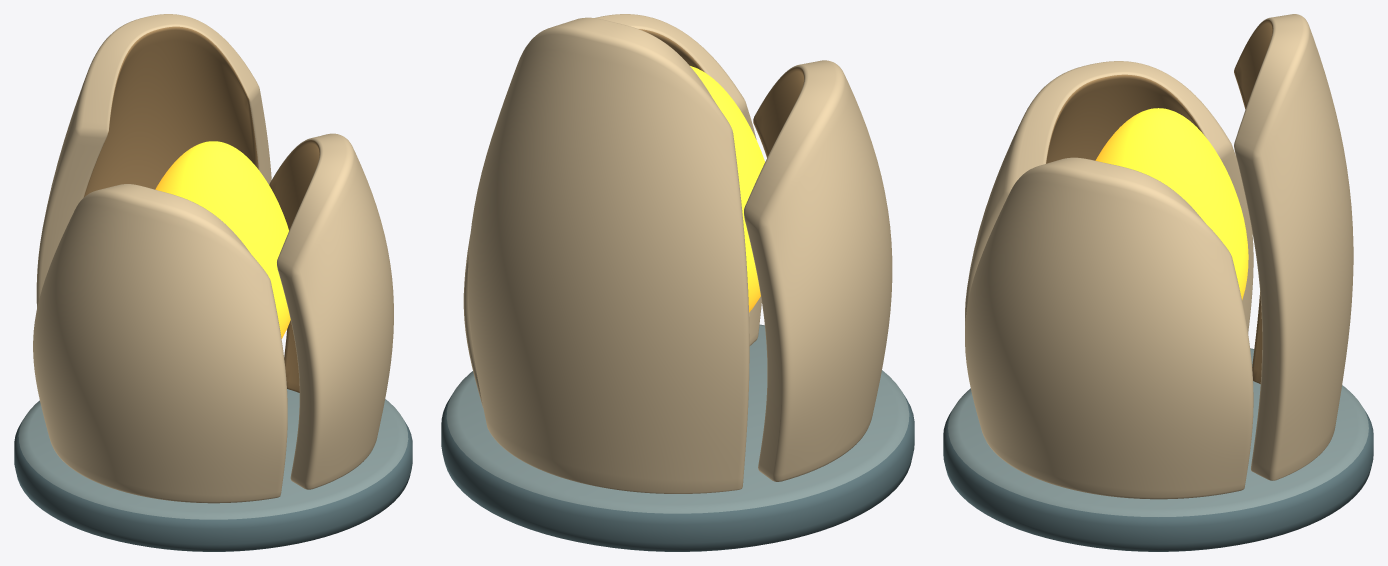
Rendered from building_sunlight_center_v01.glb.
The picture shows the model from 3 angles, left to right: view 1: azimuth 30°, elevation 25°; view 2: azimuth 150°, elevation 25°; view 3: azimuth 270°, elevation 25°; orthographic projection. The views are drawn at different scales.
Visible parts, largest first — view 1: sunlight_petal_left, sunlight_petal_right, sunlight_petal_back, sunlight_base, sunlight_energy_core; view 2: sunlight_petal_back, sunlight_petal_left, sunlight_base, sunlight_petal_right, sunlight_energy_core; view 3: sunlight_petal_right, sunlight_petal_back, sunlight_base, sunlight_petal_left, sunlight_energy_core.
Part boxes in pixels (<box>): sunlight_petal_left: <box>33,184,287,503</box>; sunlight_petal_right: <box>269,133,393,489</box>; sunlight_petal_back: <box>36,14,271,307</box>; sunlight_base: <box>14,389,412,551</box>; sunlight_energy_core: <box>155,141,290,338</box>; sunlight_petal_back: <box>468,17,749,493</box>; sunlight_petal_left: <box>744,60,892,481</box>; sunlight_base: <box>441,324,914,551</box>; sunlight_petal_right: <box>463,14,761,407</box>; sunlight_energy_core: <box>690,66,764,312</box>; sunlight_petal_right: <box>965,157,1253,499</box>; sunlight_petal_back: <box>1234,14,1353,480</box>; sunlight_base: <box>943,348,1373,551</box>; sunlight_petal_left: <box>965,61,1253,333</box>; sunlight_energy_core: <box>1095,108,1248,299</box>.
Size of the model in its own units: 4.4 by 4.95 by 4.4.
